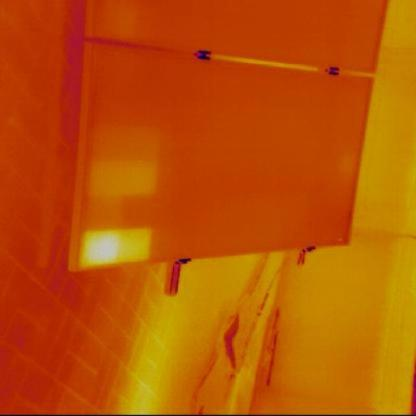anomaly: (67, 224, 162, 274), (92, 163, 156, 199)
